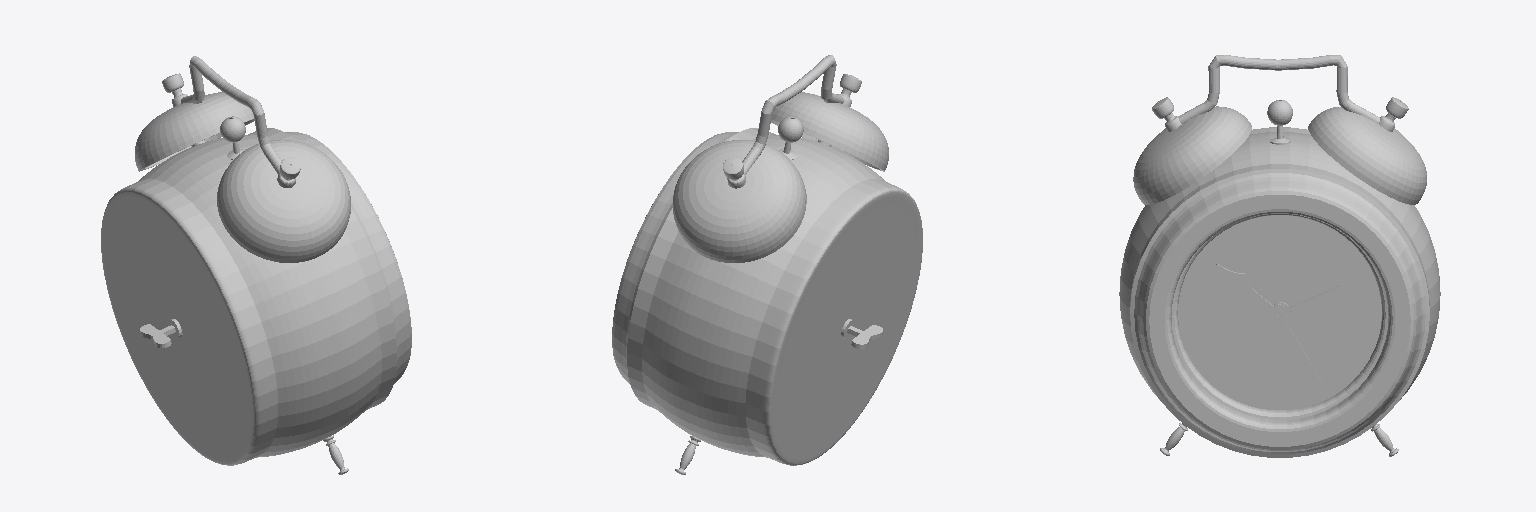
The model's file is clock_3.obj.
3 views of the same model, side by side, from view 1: azimuth 30°, elevation 25°; view 2: azimuth 150°, elevation 25°; view 3: azimuth 270°, elevation 25° (orthographic).
Visible parts, largest first — view 1: Rectangle001, Sphere001, Sphere002, Loft001, Line002, Line004, Line006; view 2: Rectangle001, Sphere002, Sphere001, Loft001, Line002, Line005, Line006; view 3: Rectangle001, Object, Sphere001, Sphere002, Loft001, Arc003, Line002, Line005, Line004.
Boxes of the visible parts, x1=… form: Rectangle001: x1=101, y1=128, x2=411, y2=465; Sphere001: x1=217, y1=140, x2=350, y2=262; Sphere002: x1=135, y1=92, x2=254, y2=171; Loft001: x1=181, y1=56, x2=281, y2=174; Line002: x1=220, y1=116, x2=245, y2=159; Line004: x1=277, y1=157, x2=300, y2=187; Line006: x1=140, y1=324, x2=175, y2=348; Rectangle001: x1=612, y1=128, x2=922, y2=465; Sphere002: x1=673, y1=140, x2=806, y2=262; Sphere001: x1=771, y1=92, x2=888, y2=171; Loft001: x1=742, y1=55, x2=843, y2=174; Line002: x1=778, y1=117, x2=803, y2=159; Line005: x1=723, y1=157, x2=745, y2=188; Line006: x1=847, y1=325, x2=882, y2=348; Rectangle001: x1=1119, y1=127, x2=1440, y2=457; Object: x1=1178, y1=215, x2=1381, y2=409; Sphere001: x1=1133, y1=106, x2=1251, y2=204; Sphere002: x1=1308, y1=107, x2=1426, y2=204; Loft001: x1=1178, y1=55, x2=1379, y2=123; Arc003: x1=1216, y1=264, x2=1374, y2=386; Line002: x1=1267, y1=100, x2=1292, y2=144; Line005: x1=1379, y1=97, x2=1408, y2=131; Line004: x1=1152, y1=97, x2=1181, y2=131.
Bounding box in the file's own units: 92.6 × 153 × 120.